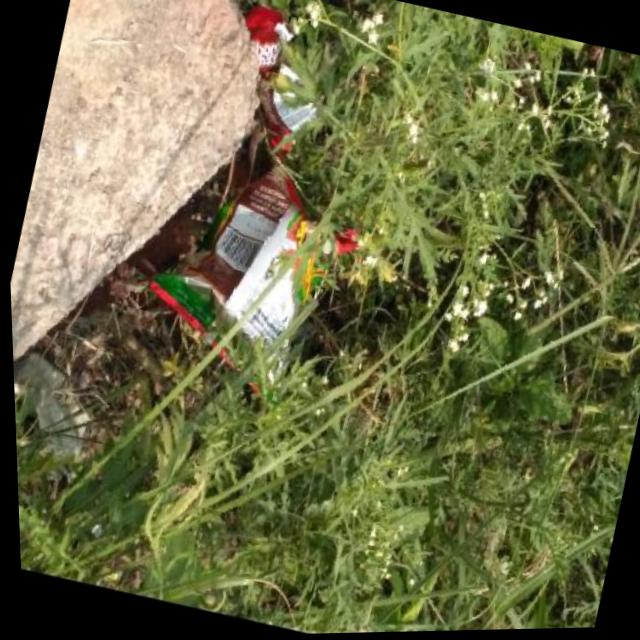plastic: (118, 0, 413, 418)
